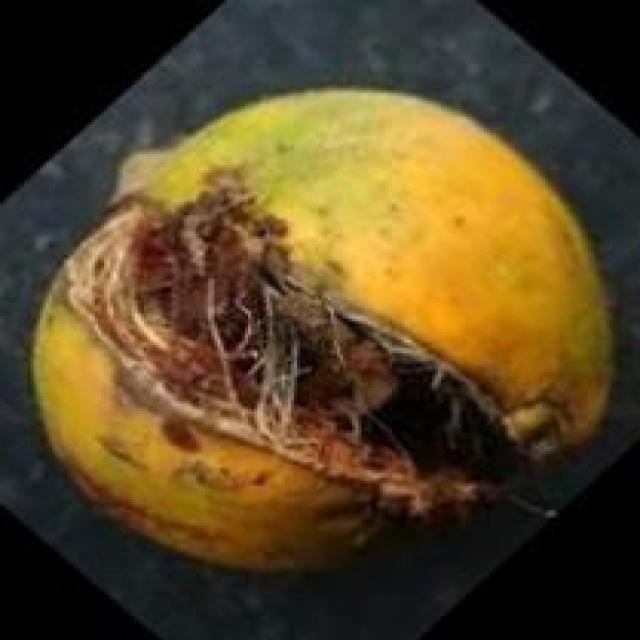damaged: (31, 88, 619, 579)
